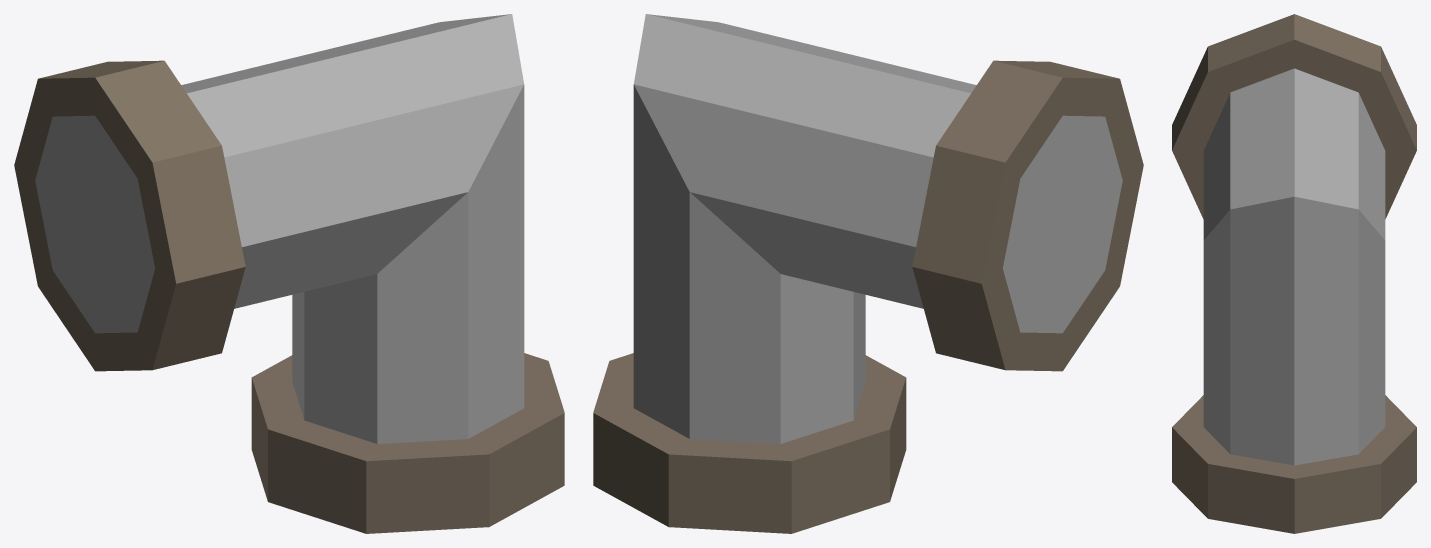
File: steampunk_pipe_90.fbx
3 renders of one model, left to right at view 1: azimuth 30°, elevation 25°; view 2: azimuth 150°, elevation 25°; view 3: azimuth 270°, elevation 25°, orthographic. The views are drawn at different scales.
Parts seen in each view (by area): view 1: Elbow Joint.001; view 2: Elbow Joint.001; view 3: Elbow Joint.001.
Boxes of the visible parts, <box> form: Elbow Joint.001: <box>14,14,564,533</box>; Elbow Joint.001: <box>593,14,1143,533</box>; Elbow Joint.001: <box>1172,14,1416,533</box>.
Size of the model in its own units: 0.6523 by 0.6414 by 0.4037.
